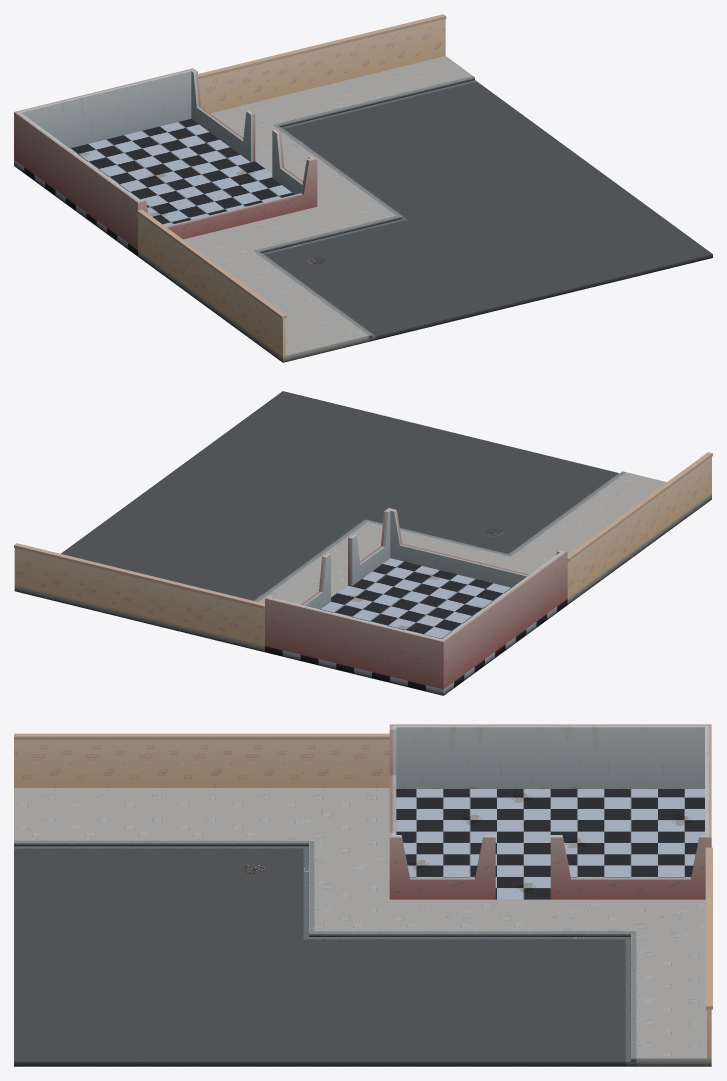
The model's file is DoubleCooked_Room01.fbx.
The picture shows the model from 3 angles, top to bottom: view 1: azimuth 30°, elevation 25°; view 2: azimuth 150°, elevation 25°; view 3: azimuth 270°, elevation 25°; orthographic projection. The views are drawn at different scales.
Visible parts, largest first — view 1: DoubleCooked_Room01; view 2: DoubleCooked_Room01; view 3: DoubleCooked_Room01.
Boxes of the visible parts, x1,y1,x2,y2 form: DoubleCooked_Room01: (14, 14, 712, 362); DoubleCooked_Room01: (14, 391, 712, 695); DoubleCooked_Room01: (14, 724, 712, 1066).
Size of the model in its own units: 1203 by 144 by 1303.
